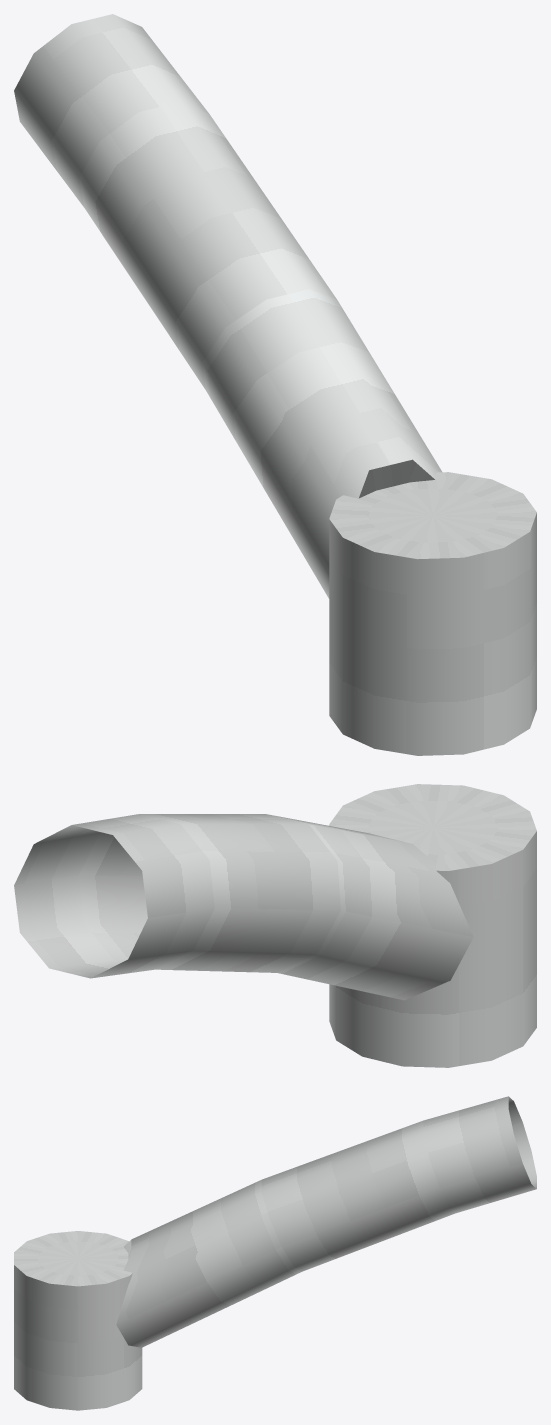
The model's file is nycsignalarm_regular8_c1_pedestal.obj.
3 renders of one model, top to bottom at view 1: azimuth 30°, elevation 25°; view 2: azimuth 150°, elevation 25°; view 3: azimuth 270°, elevation 25°, orthographic. The views are drawn at different scales.
Parts seen in each view (by area): view 1: nycsignalarm_regular8_c1_pedestal; view 2: nycsignalarm_regular8_c1_pedestal; view 3: nycsignalarm_regular8_c1_pedestal.
Boxes of the visible parts, left/top/right/bottom form: nycsignalarm_regular8_c1_pedestal: left=14, top=14, right=536, bottom=755; nycsignalarm_regular8_c1_pedestal: left=14, top=784, right=536, bottom=1067; nycsignalarm_regular8_c1_pedestal: left=14, top=1096, right=536, bottom=1410.
Size of the model in its own units: 0.4438 by 1.04 by 1.76.
